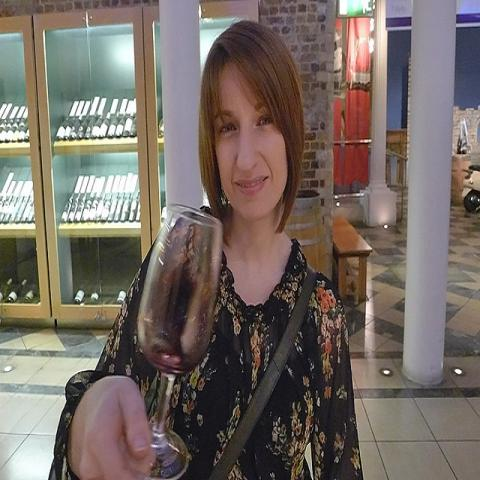motorcycle: (460, 164, 480, 214)
